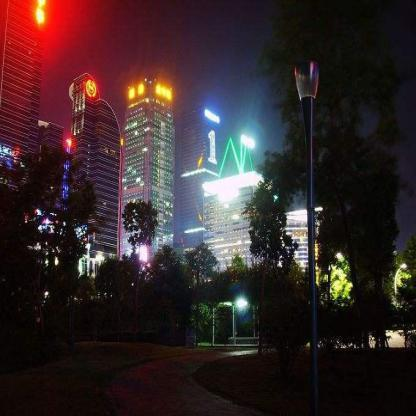other: (128, 76, 182, 108), (29, 2, 50, 32), (83, 72, 95, 102)
